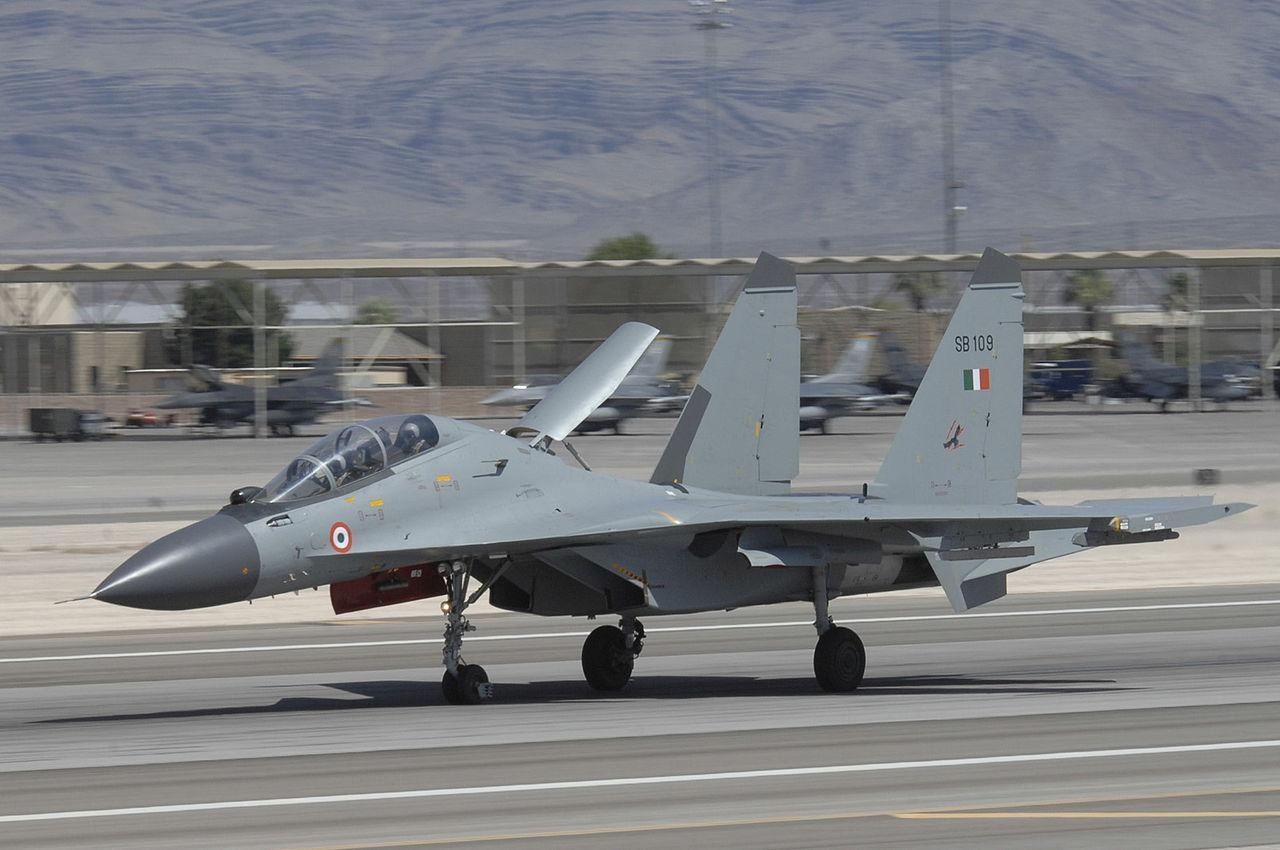aircraft: (43, 258, 1266, 703)
